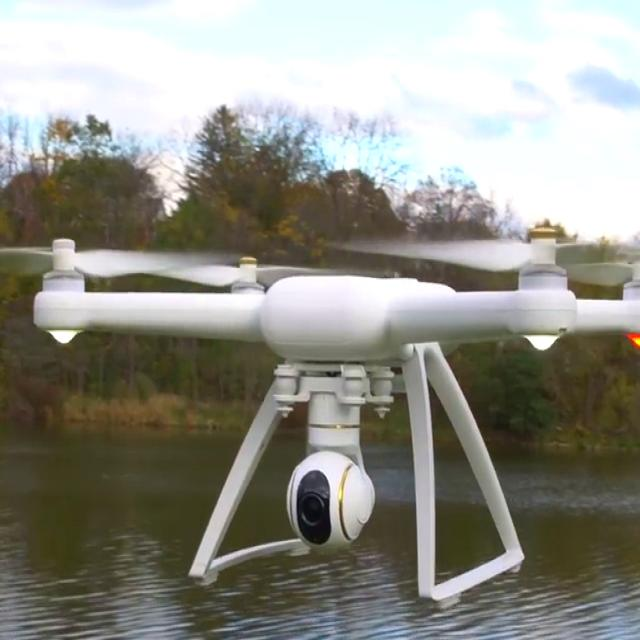drone: (0, 206, 640, 439)
